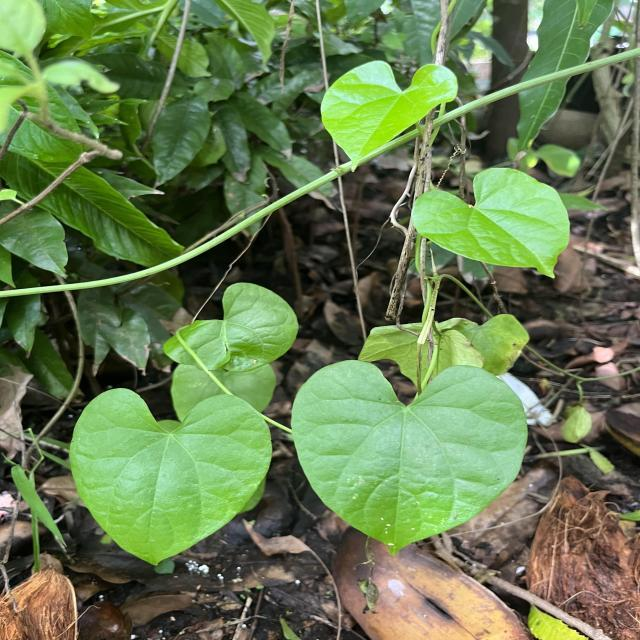Tinospora cordifolia: (289, 357, 530, 558), (66, 386, 274, 568), (409, 166, 571, 280), (318, 58, 461, 176)
